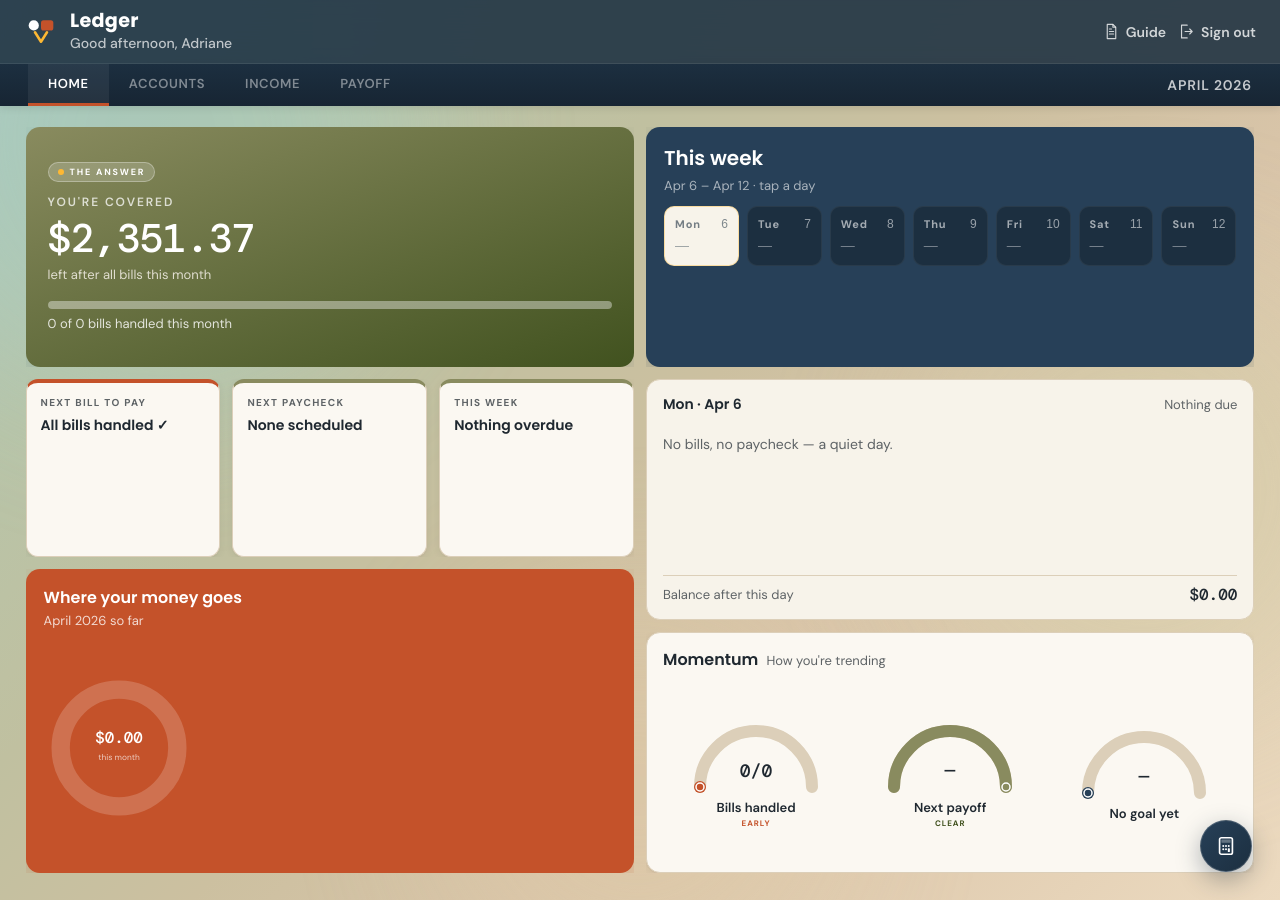
it: AppShell — tab navigation › switches to Income tab on click
Click the tab "Income" at [273, 85], box x1=225 y1=64 x2=320 y2=106
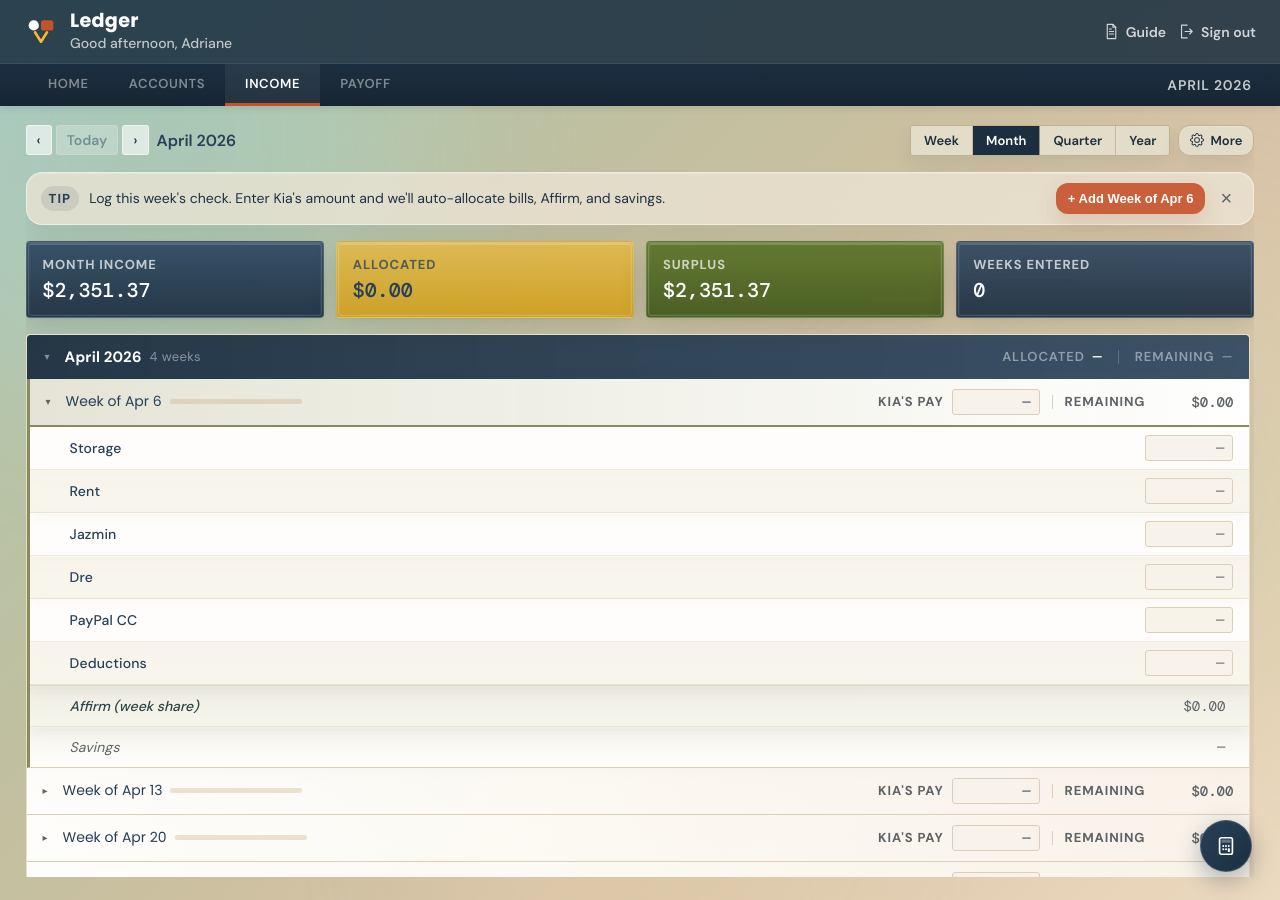
expect the heading "April 2026" is shown: met, box x1=157 y1=130 x2=236 y2=151
